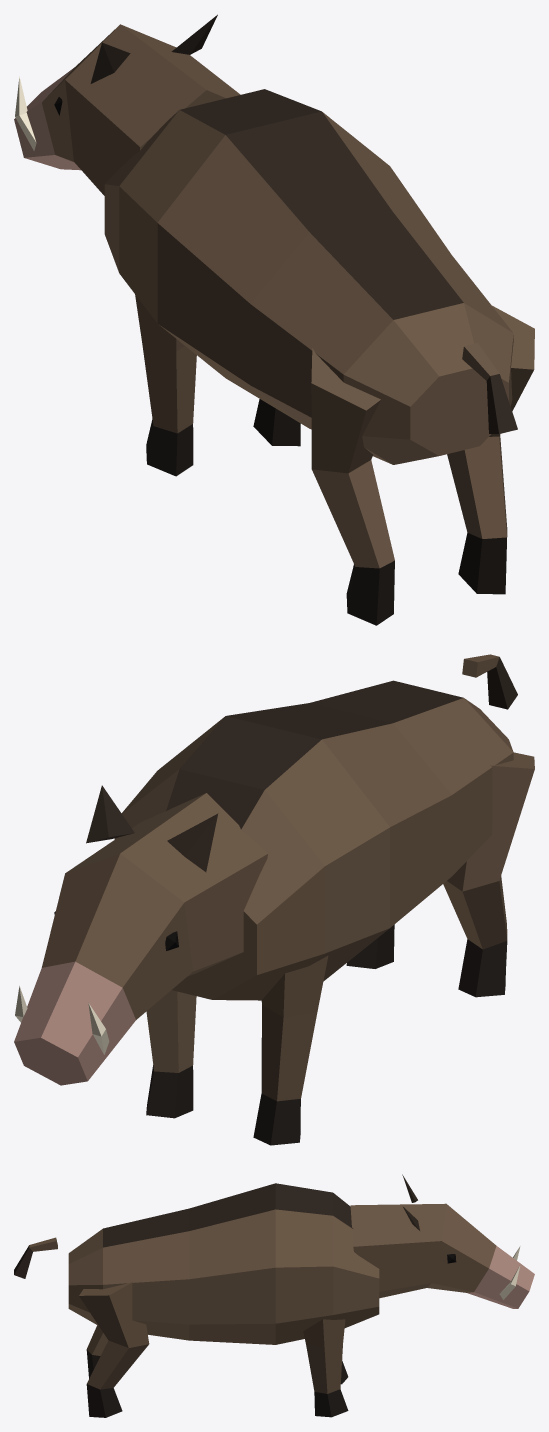
Rendered from boar.glb.
The picture shows the model from 3 angles, top to bottom: view 1: azimuth 30°, elevation 25°; view 2: azimuth 150°, elevation 25°; view 3: azimuth 270°, elevation 25°; orthographic projection. The views are drawn at different scales.
Parts seen in each view (by area): view 1: Body, Head, Leg_BL, Leg_BR, Leg_FL, Tail, Leg_FR, Ear_L; view 2: Body, Head, Leg_BL, Leg_FL, Leg_FR, Tail, Ear_L, Ear_R, Leg_BR; view 3: Body, Head, Leg_BR, Leg_FR, Tail, Leg_BL.
Part boxes in pixels (x1=…): Body: x1=104, y1=89, x2=513, y2=464; Head: x1=14, y1=24, x2=240, y2=195; Leg_BL: x1=311, y1=348, x2=394, y2=625; Leg_BR: x1=447, y1=305, x2=534, y2=594; Leg_FL: x1=135, y1=294, x2=196, y2=476; Tail: x1=462, y1=343, x2=517, y2=433; Leg_FR: x1=253, y1=399, x2=300, y2=446; Ear_L: x1=90, y1=42, x2=130, y2=83; Body: x1=114, y1=680, x2=513, y2=1000; Head: x1=14, y1=793, x2=267, y2=1085; Leg_BL: x1=443, y1=752, x2=534, y2=997; Leg_FL: x1=253, y1=956, x2=328, y2=1145; Leg_FR: x1=146, y1=990, x2=196, y2=1118; Tail: x1=462, y1=654, x2=517, y2=709; Ear_L: x1=167, y1=813, x2=218, y2=872; Ear_R: x1=86, y1=785, x2=134, y2=843; Leg_BR: x1=346, y1=924, x2=394, y2=968; Body: x1=68, y1=1183, x2=379, y2=1344; Head: x1=350, y1=1203, x2=534, y2=1308; Leg_BR: x1=79, y1=1282, x2=149, y2=1417; Leg_FR: x1=303, y1=1319, x2=348, y2=1417; Tail: x1=14, y1=1237, x2=57, y2=1278; Leg_BL: x1=86, y1=1325, x2=108, y2=1378.
Bounding box in the file's own units: 0.4784 × 0.7394 × 1.67.
